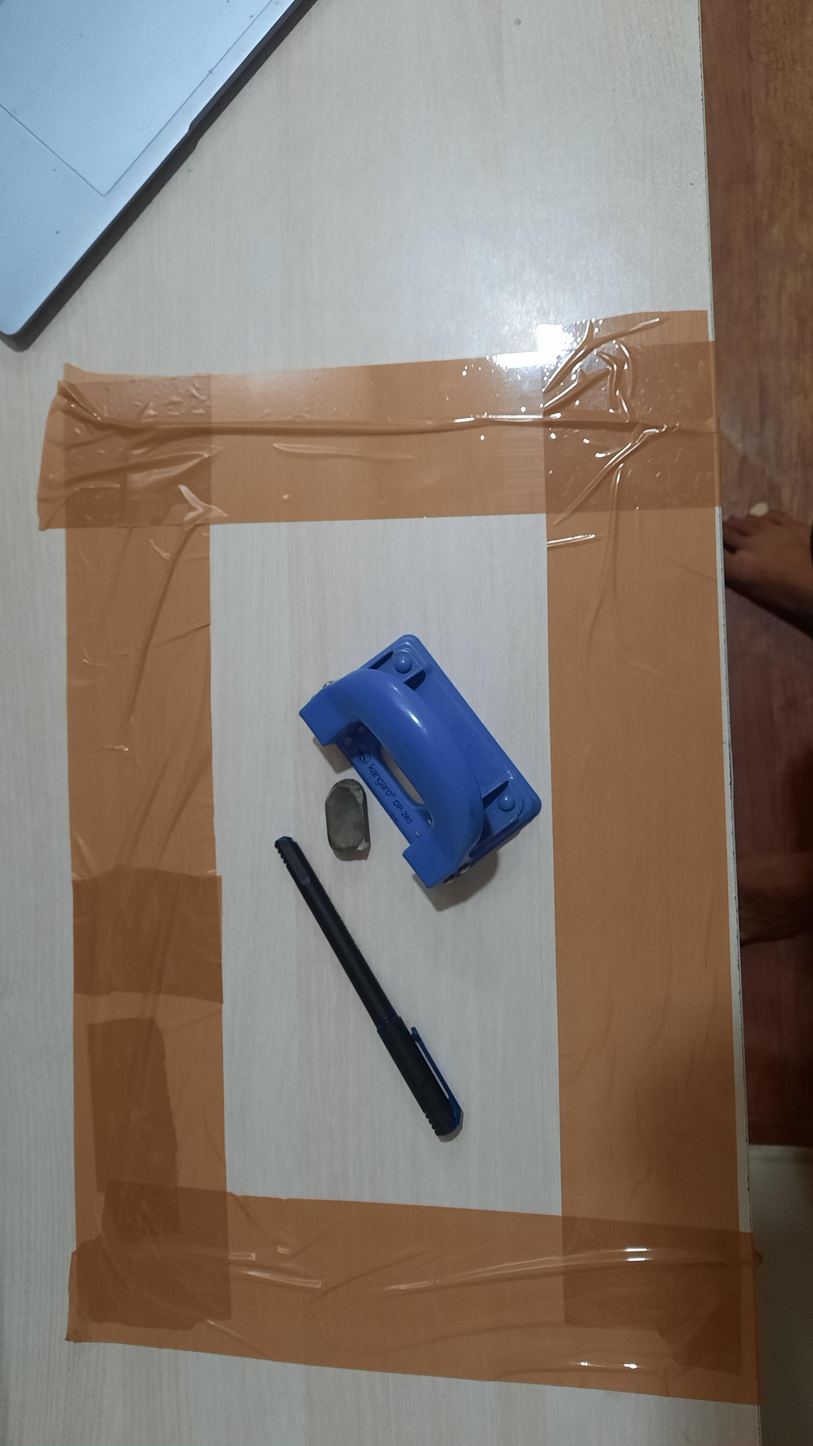Eraser: (324, 779, 370, 862)
Pen: (274, 836, 463, 1137)
Punch: (298, 635, 543, 890)
